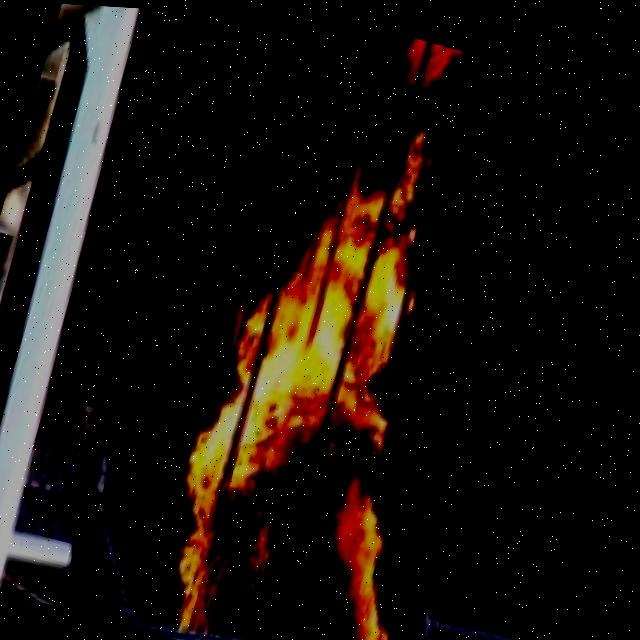Fire: (152, 104, 523, 640)
